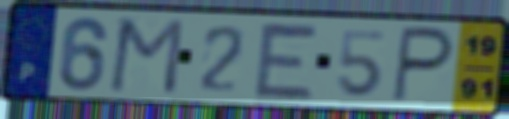2: (197, 23, 248, 94)
5: (333, 27, 388, 99)
6: (56, 14, 110, 93)
E: (251, 19, 323, 102)
M: (105, 16, 188, 97)
P: (388, 23, 457, 106)
